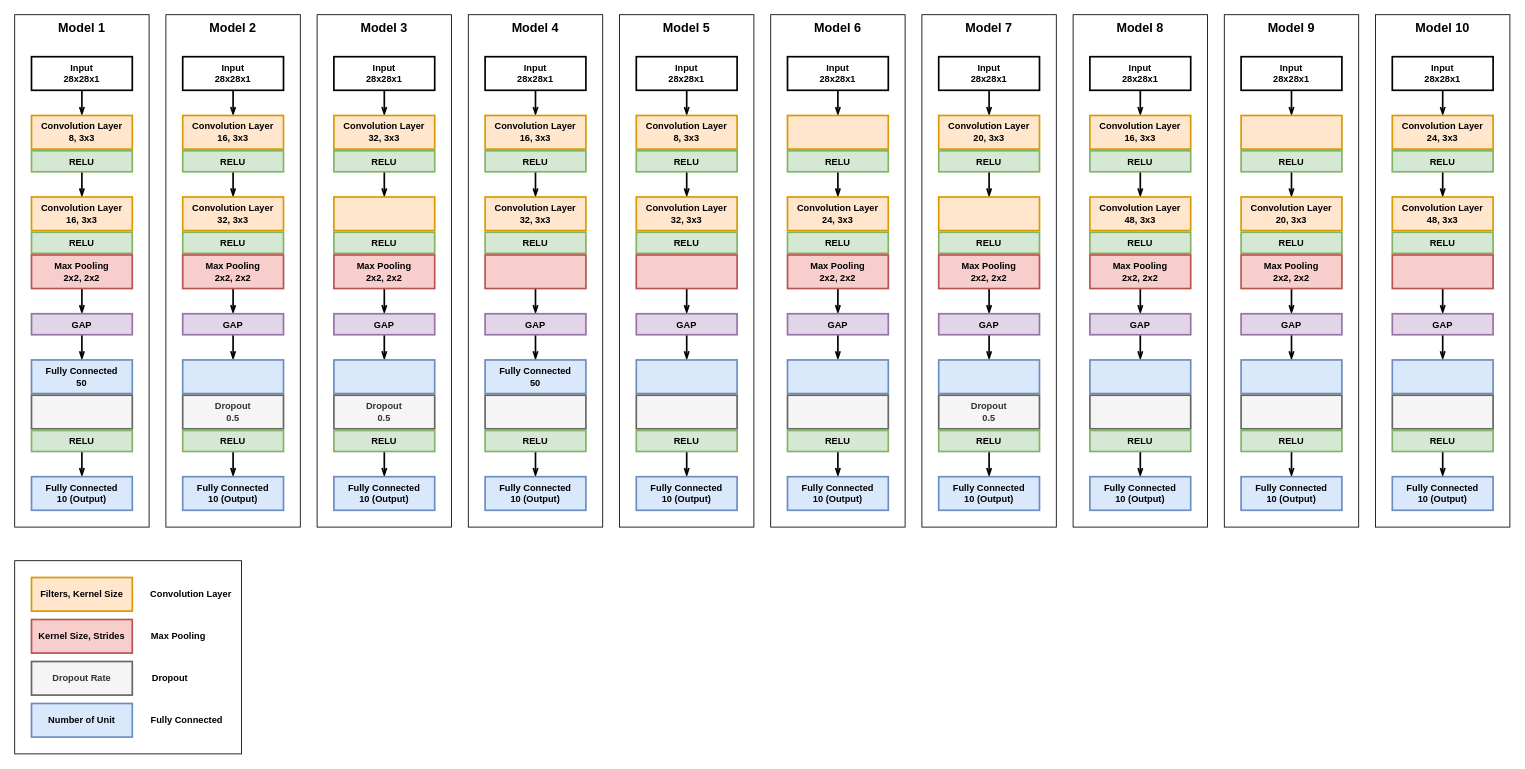
Image size: 1525x769. Some labels were removed from this diagram. Each missing label, with the centre of its shape:
"Convolution Layer 10, 3x3" goes at pixel 1291 132.
"Convolution Layer 12, 3x3" goes at pixel 837 132.
"Convolution Layer 40, 3x3" goes at pixel 988 213.
"Convolution Layer 64, 3x3" goes at pixel 384 213.
"Dropout 0.1" goes at pixel 1291 411.
"Dropout 0.2" goes at pixel 535 411.
"Dropout 0.25" goes at pixel 1140 411.
"Dropout 0.3" goes at pixel 81 411.
"Dropout 0.4" goes at pixel 837 411.
"Dropout 0.6" goes at pixel 686 411.
"Dropout 0.7" goes at pixel 1442 411.
"Fully Connected 100" goes at pixel 232 376.
"Fully Connected 120" goes at pixel 988 376.
"Fully Connected 150" goes at pixel 384 376.
"Fully Connected 200" goes at pixel 686 376.
"Fully Connected 256" goes at pixel 1442 376.
"Fully Connected 32" goes at pixel 1291 376.
"Fully Connected 64" goes at pixel 1140 376.
"Fully Connected 80" goes at pixel 837 376.
"Max Pooling 2x2, 1x1" goes at pixel 535 271.
"Max Pooling 3x3, 2x2" goes at pixel 686 271.
"Max Pooling 3x3, 3x3" goes at pixel 1442 271.
